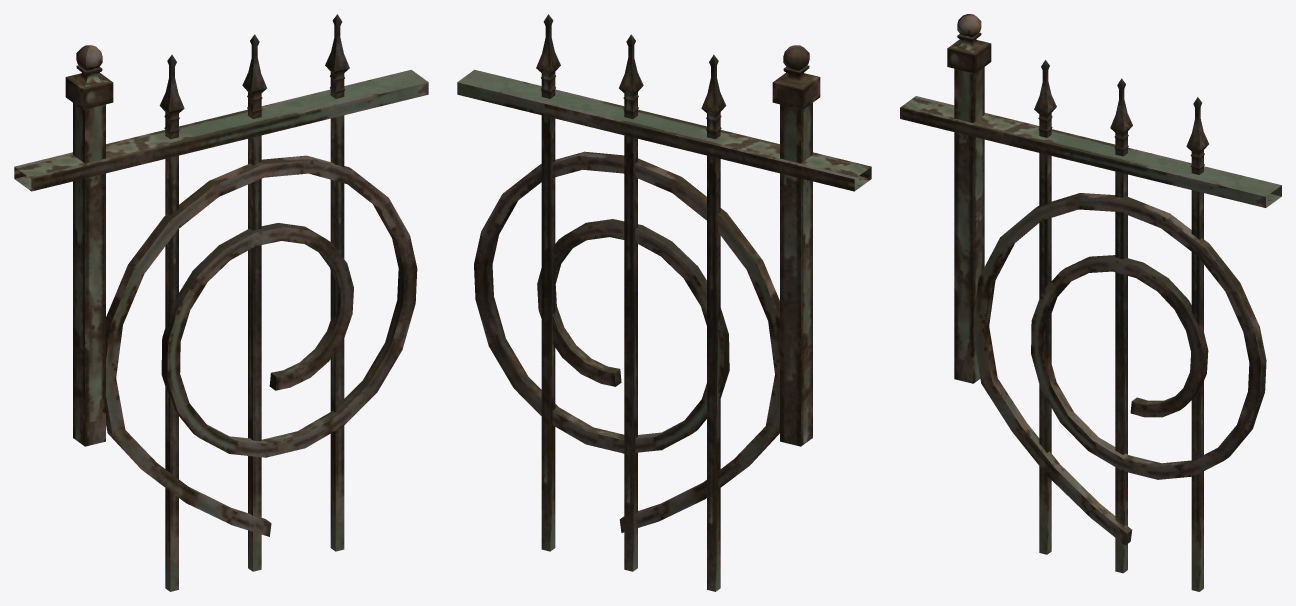
File: Garden_Grid_Gate.FBX
The picture shows the model from 3 angles, left to right: view 1: azimuth 30°, elevation 25°; view 2: azimuth 150°, elevation 25°; view 3: azimuth 330°, elevation 25°; orthographic projection. The views are drawn at different scales.
Visible parts, largest first — view 1: Garden_Grid_Gate; view 2: Garden_Grid_Gate; view 3: Garden_Grid_Gate.
Part boxes in pixels (box(x1,y1,x2,y2)): Garden_Grid_Gate: box(14, 14, 428, 591); Garden_Grid_Gate: box(457, 14, 871, 591); Garden_Grid_Gate: box(900, 14, 1281, 591).
Size of the model in its own units: 120 by 163 by 9.15.
